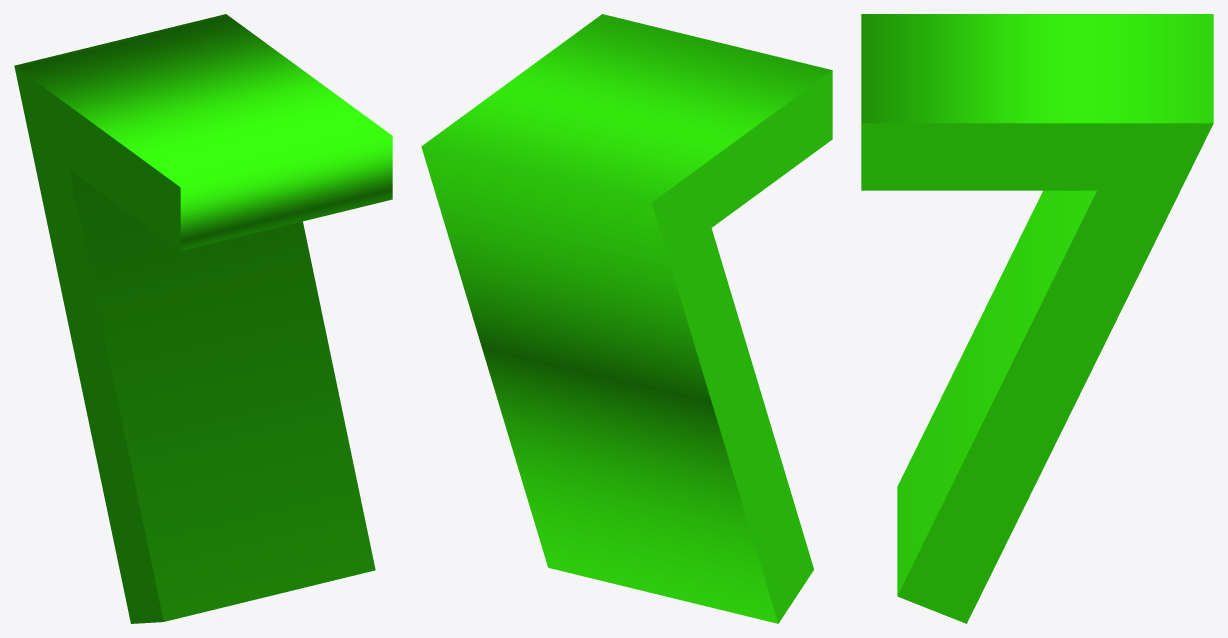
The model's file is number7.obj.
The picture shows the model from 3 angles, left to right: view 1: azimuth 30°, elevation 25°; view 2: azimuth 150°, elevation 25°; view 3: azimuth 270°, elevation 25°; orthographic projection. The views are drawn at different scales.
Parts seen in each view (by area): view 1: Text.021_Text.028; view 2: Text.021_Text.028; view 3: Text.021_Text.028.
Boxes of the visible parts, left/top/right/bottom form: Text.021_Text.028: left=14, top=14, right=392, bottom=623; Text.021_Text.028: left=421, top=14, right=832, bottom=623; Text.021_Text.028: left=861, top=14, right=1213, bottom=623.
Bounding box in the file's own units: 2.23 × 4.76 × 3.04.
